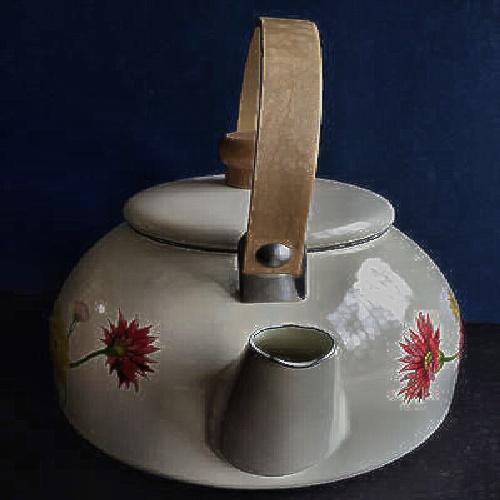kettle: (69, 29, 462, 466)
